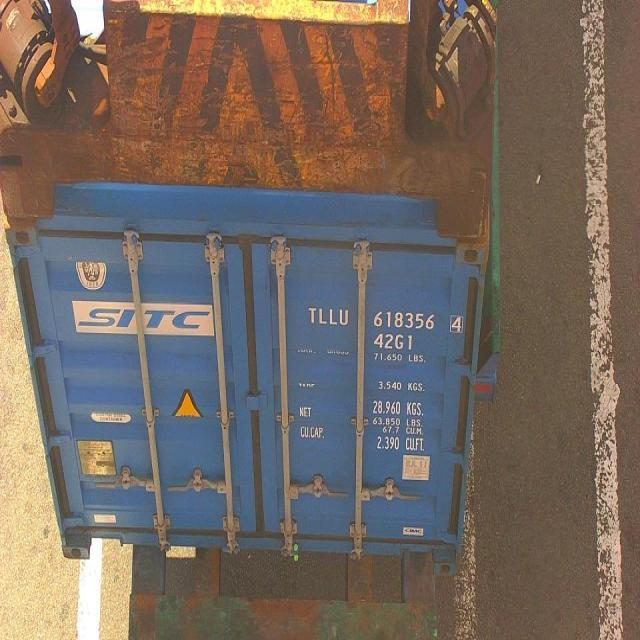ISO: (370, 330, 414, 350)
container_number: (308, 306, 466, 333)
